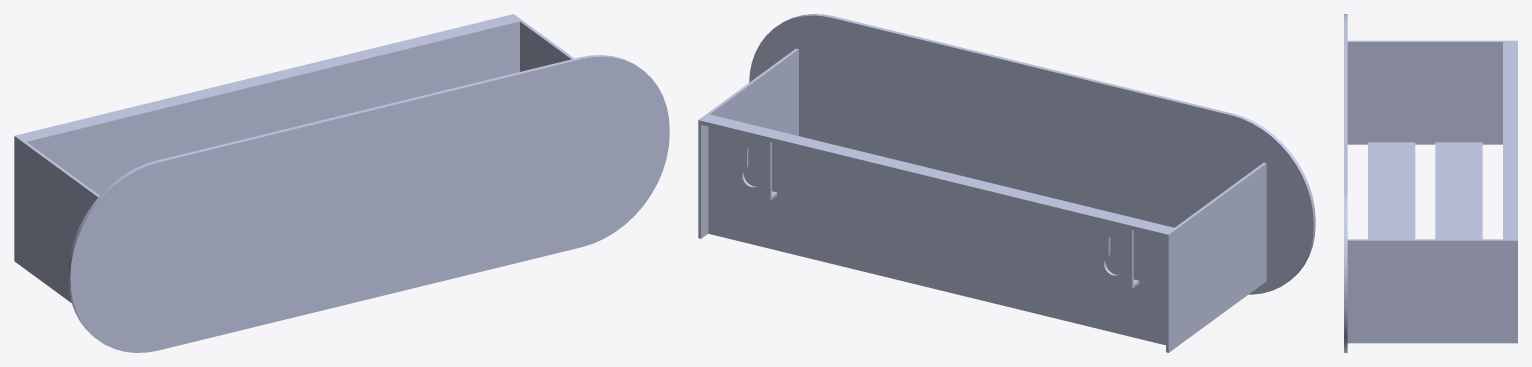
File: round-mono.851dc69c04.glb
3 renders of one model, left to right at view 1: azimuth 30°, elevation 25°; view 2: azimuth 150°, elevation 25°; view 3: azimuth 270°, elevation 25°, orthographic. The views are drawn at different scales.
Parts seen in each view (by area): view 1: NAUO1; view 2: NAUO1; view 3: NAUO1.
Part boxes in pixels (left/top/right/bottom): NAUO1: left=14, top=14, right=669, bottom=352; NAUO1: left=698, top=14, right=1315, bottom=352; NAUO1: left=1344, top=14, right=1517, bottom=352.
Size of the model in its own units: 0.3 by 0.09 by 0.092.
